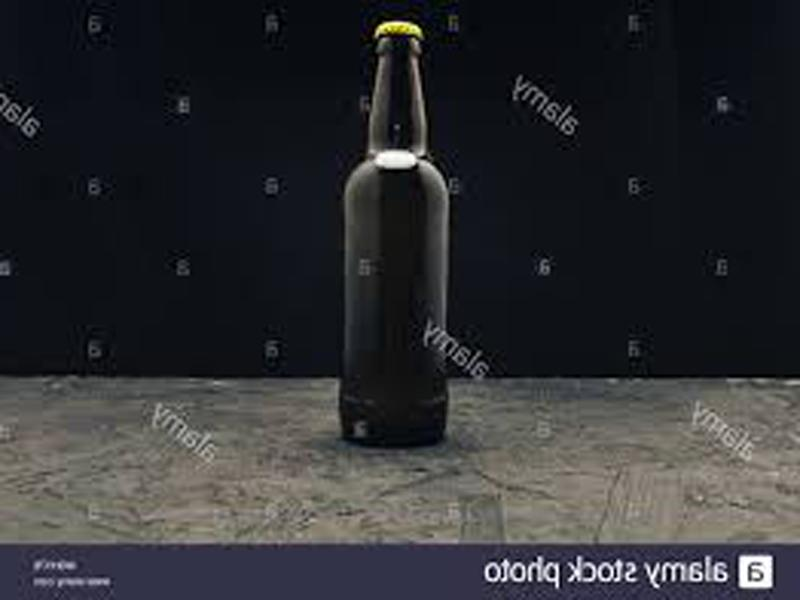Beer: (341, 22, 439, 444)
